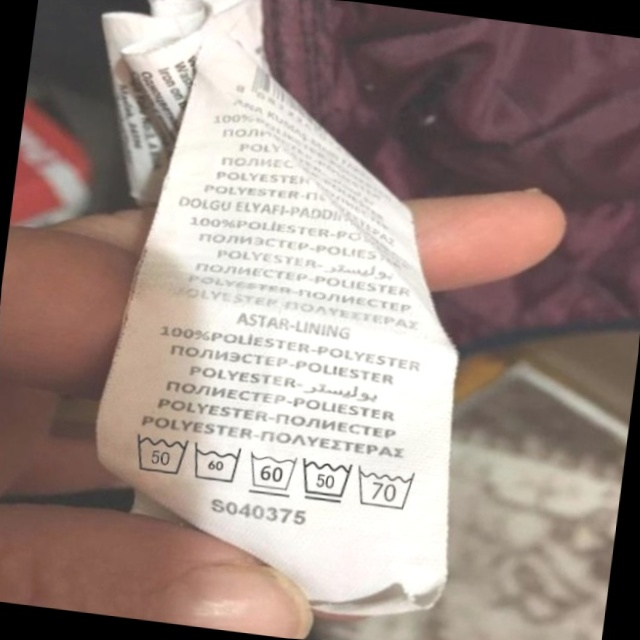50C: (125, 423, 196, 484), (294, 451, 359, 510)
60C: (243, 444, 304, 502), (186, 436, 249, 491)
70C: (352, 460, 424, 516)
